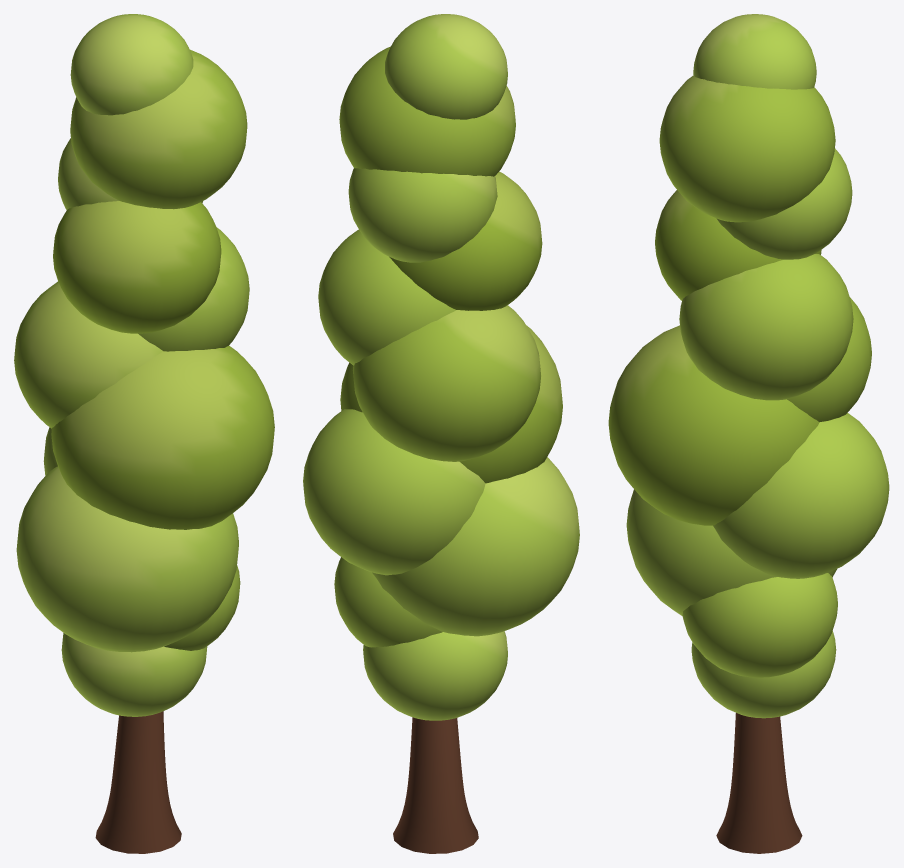
The model's file is tall-tree-8.obj.
The picture shows the model from 3 angles, left to right: view 1: azimuth 30°, elevation 25°; view 2: azimuth 150°, elevation 25°; view 3: azimuth 270°, elevation 25°; orthographic projection.
Visible parts, largest first — view 1: tree; view 2: tree; view 3: tree.
Boxes of the visible parts, x1,y1,x2,y2 form: tree: [14, 14, 274, 853]; tree: [303, 14, 579, 853]; tree: [608, 14, 889, 853].
Bounding box in the file's own units: 174 × 611 × 192.
